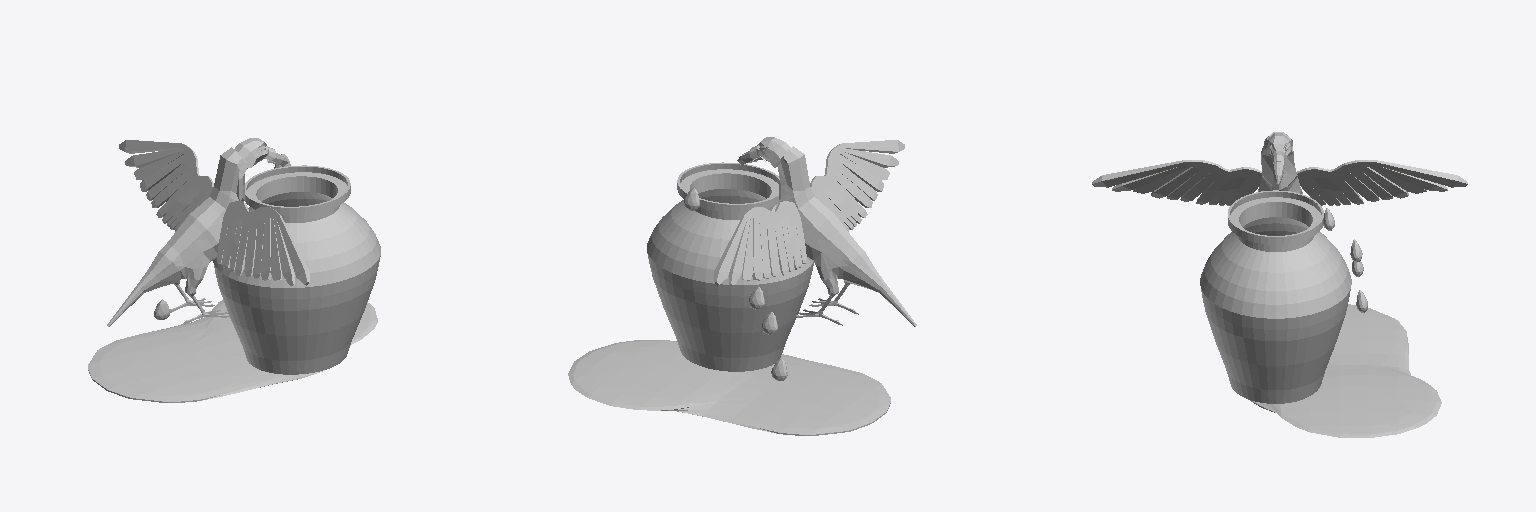
File: bheegahuakaua10.obj
3 views of the same model, side by side, from view 1: azimuth 30°, elevation 25°; view 2: azimuth 150°, elevation 25°; view 3: azimuth 270°, elevation 25° (orthographic).
Parts seen in each view (by area): view 1: Circle, Cylinder, Mball; view 2: Circle, Mball, Cylinder; view 3: Circle, Mball, Cylinder.
Part boxes in pixels (x1,y1,x2,y2): Circle: (213,165,380,374); Cylinder: (107,138,309,326); Mball: (88,300,377,402); Circle: (647,162,813,371); Mball: (568,340,890,435); Cylinder: (714,137,916,326); Circle: (1200,190,1351,403); Mball: (1250,304,1441,437); Cylinder: (1092,132,1467,205).
Bounding box in the file's own units: 1.18 × 0.8879 × 1.28.